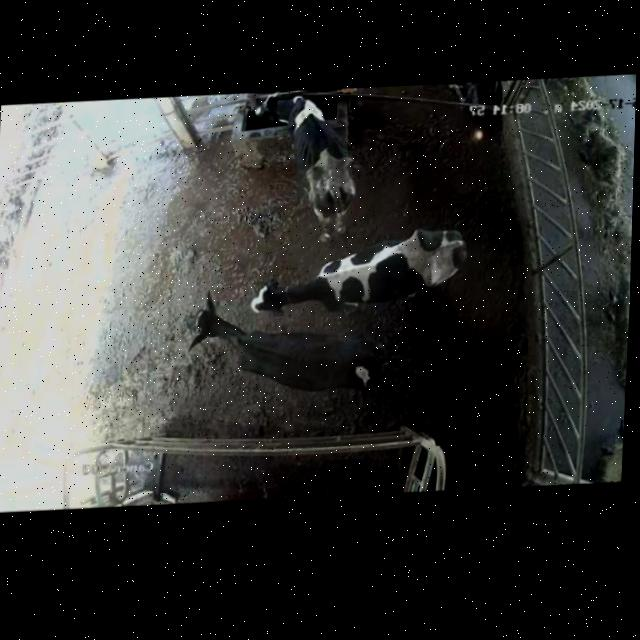drink: (253, 80, 332, 163)
stand: (161, 280, 413, 415), (234, 209, 483, 340)
